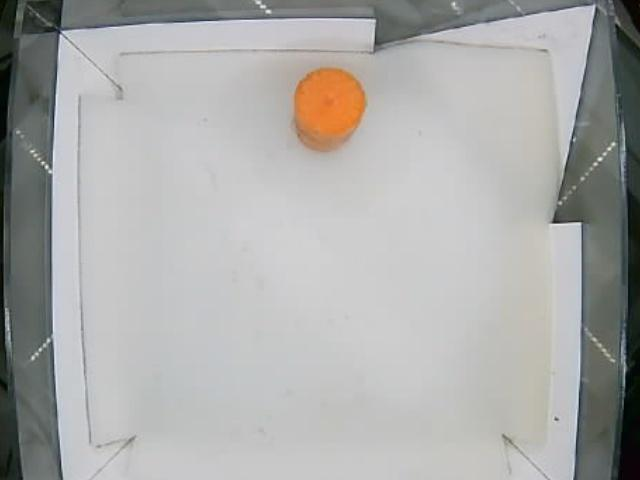Carrot: (294, 68, 365, 155)
